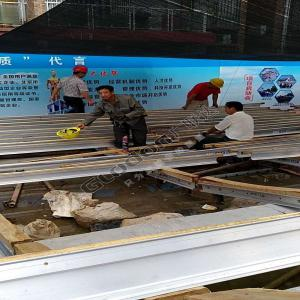none: (95, 85, 116, 101), (223, 101, 245, 115)
red: (71, 67, 90, 80)
yellow: (208, 78, 225, 91)
